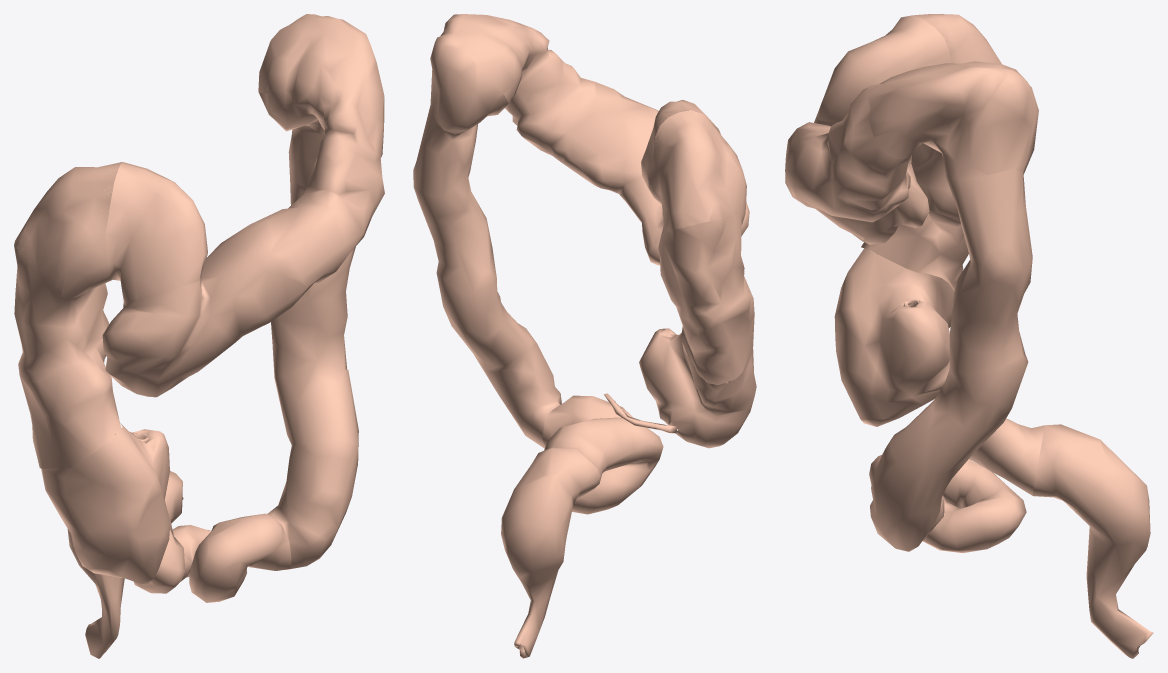
Rendered from intestine_large.glb.
3 views of the same model, side by side, from view 1: azimuth 30°, elevation 25°; view 2: azimuth 150°, elevation 25°; view 3: azimuth 270°, elevation 25° (orthographic). The views are drawn at different scales.
Bounding box in the file's own units: 0.2574 × 0.4494 × 0.2244.
